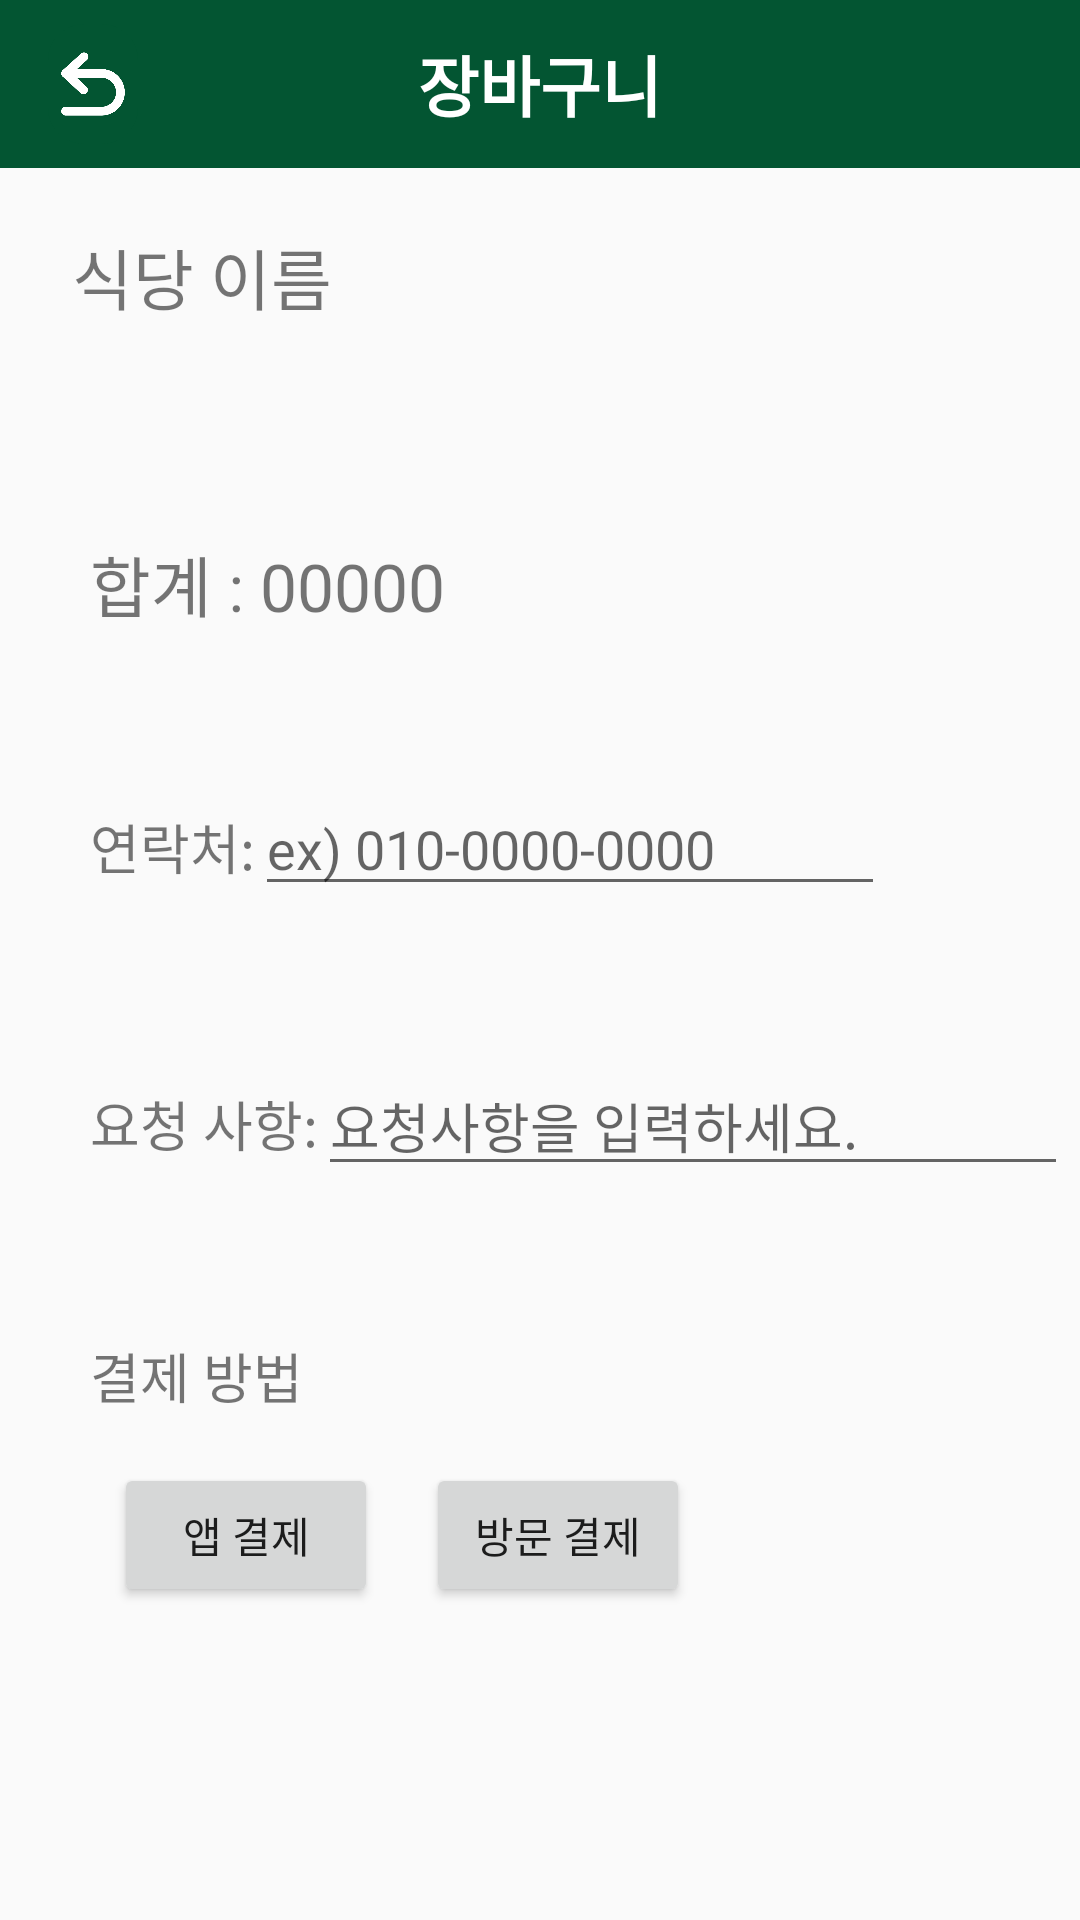

Icons on this 1080x1920 Android screen, each with its box as (x1, y1, x2, y2):
exit: (61, 52, 125, 116)
